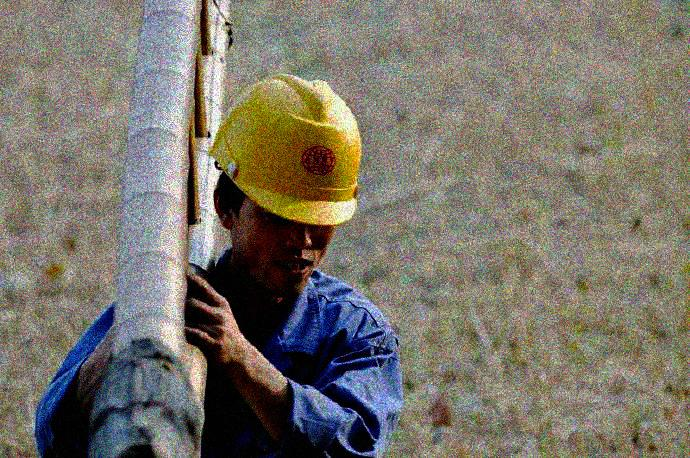helmet: (206, 69, 360, 292)
